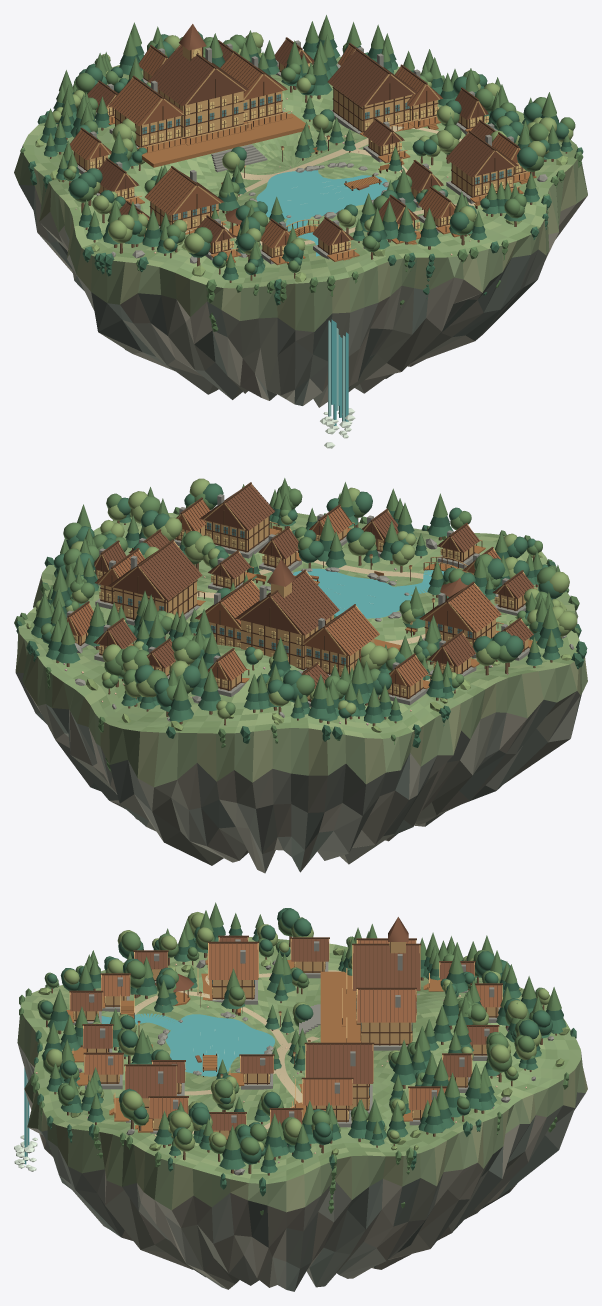
Rendered from suifu-island_96.glb.
3 renders of one model, top to bottom at view 1: azimuth 30°, elevation 25°; view 2: azimuth 150°, elevation 25°; view 3: azimuth 270°, elevation 25°, orthographic. The views are drawn at different scales.
Parts seen in each view (by area): view 1: Floating_rock_base, Meadow_surface, vegetation_leaf2, architecture_timber, vegetation_leaf1, architecture_roof, architecture_lightwood, architecture_roof2, vegetation_leaf3, water_water, architecture_wood, vegetation_leaf4 (+7 smaller); view 2: Floating_rock_base, vegetation_leaf2, Meadow_surface, vegetation_leaf1, architecture_timber, architecture_roof, vegetation_leaf3, architecture_lightwood, architecture_roof2, vegetation_leaf4, water_water, architecture_stone (+5 smaller); view 3: Floating_rock_base, Meadow_surface, vegetation_leaf2, vegetation_leaf1, architecture_roof, architecture_timber, architecture_roof2, vegetation_leaf4, vegetation_leaf3, architecture_lightwood, water_water, architecture_wood (+4 smaller).
Boxes of the visible parts, x1,y1,x2,y2 form: Floating_rock_base: (14,145,587,407); Meadow_surface: (23,56,577,288); vegetation_leaf2: (20,15,583,331); architecture_timber: (70,37,530,262); vegetation_leaf1: (28,31,583,305); architecture_roof: (87,24,518,245); architecture_lightwood: (73,39,529,257); architecture_roof2: (70,45,519,248); vegetation_leaf3: (35,32,573,282); water_water: (256,170,387,425); architecture_wood: (84,112,536,265); vegetation_leaf4: (42,38,571,274); Floating_rock_base: (15,574,587,873); vegetation_leaf2: (14,478,579,771); Meadow_surface: (18,513,579,738); vegetation_leaf1: (15,483,587,747); architecture_timber: (66,482,533,701); architecture_roof: (94,485,534,688); vegetation_leaf3: (26,478,577,732); architecture_lightwood: (67,483,536,701); architecture_roof2: (67,500,501,686); vegetation_leaf4: (33,506,561,715); water_water: (293,563,444,618); architecture_stone: (66,494,529,707); Floating_rock_base: (17,1014,587,1291); Meadow_surface: (20,937,580,1183); vegetation_leaf2: (19,902,568,1215); vegetation_leaf1: (34,908,576,1210); architecture_roof: (70,917,497,1130); architecture_timber: (69,935,502,1139); architecture_roof2: (85,940,501,1118); vegetation_leaf4: (44,925,563,1166); vegetation_leaf3: (38,912,569,1155); architecture_lightwood: (69,937,502,1139); water_water: (24,1013,274,1164); architecture_wood: (66,954,443,1132).
Bounding box in the file's own units: 96 × 55.98 × 96.
